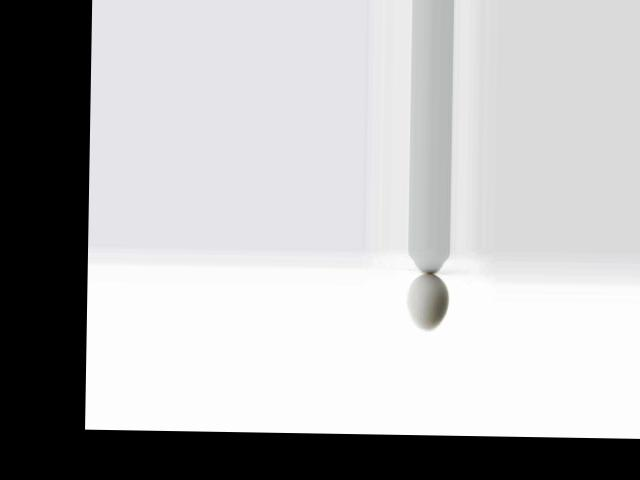egg: (407, 272, 448, 330)
